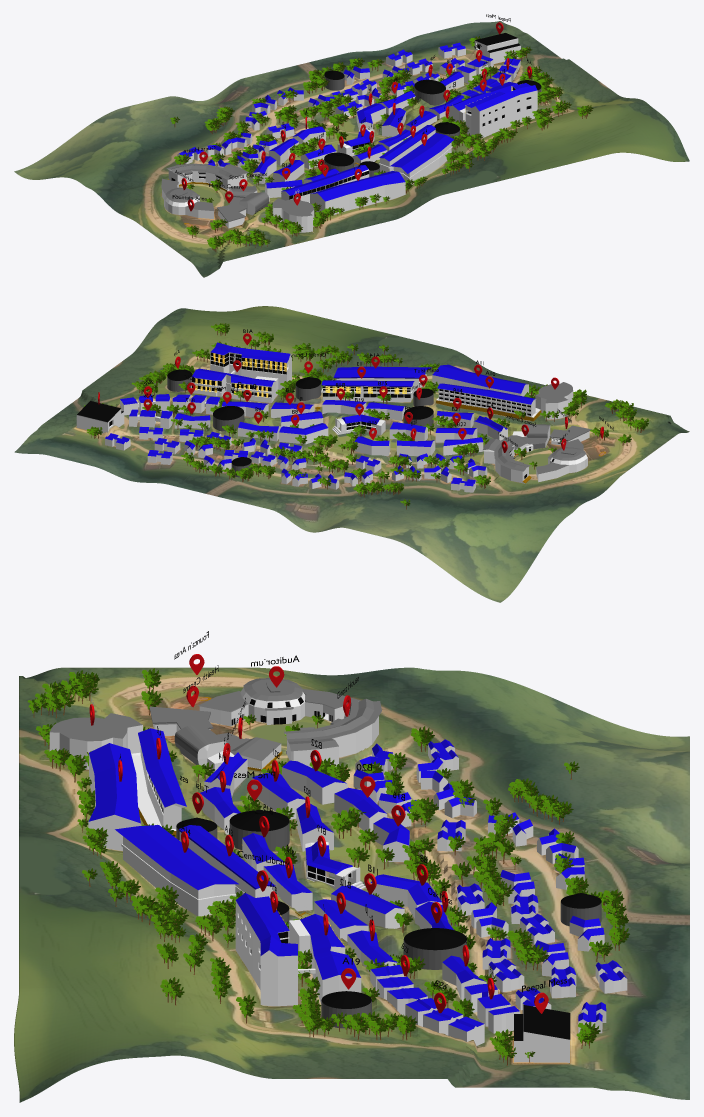
The picture shows the model from 3 angles, top to bottom: view 1: azimuth 30°, elevation 25°; view 2: azimuth 150°, elevation 25°; view 3: azimuth 270°, elevation 25°; orthographic projection. The views are drawn at different scales.
Parts seen in each view (by area): view 1: Dharti, A17+A18, A13 + A14, A11, Guest House, Auditorium, A10, A9, Peepal Mess, Plane, Oak Mess, Health Center (+8 smaller); view 2: Dharti, A17+A18, A13 + A14, A10, A11, Auditorium, Guest House, Peepal Mess, A9, Plane, B19, B8 (+18 smaller); view 3: Dharti, A17+A18, A13 + A14, Auditorium, A11, A10, Guest House, A9, Plane, Peepal Mess, Oak Mess, B26 (+25 smaller).
Part boxes in pixels (x1=…): Dharti: x1=14, y1=21, x2=689, y2=277; A17+A18: x1=449, y1=82, x2=537, y2=138; A13 + A14: x1=379, y1=125, x2=454, y2=184; A11: x1=310, y1=171, x2=405, y2=214; Guest House: x1=166, y1=163, x2=248, y2=191; Auditorium: x1=161, y1=178, x2=214, y2=218; A10: x1=281, y1=165, x2=369, y2=202; A9: x1=272, y1=198, x2=314, y2=232; Peepal Mess: x1=474, y1=33, x2=520, y2=63; Plane: x1=229, y1=186, x2=269, y2=215; Oak Mess: x1=414, y1=79, x2=445, y2=105; Health Center: x1=217, y1=202, x2=246, y2=228; Dharti: x1=14, y1=306, x2=689, y2=602; A17+A18: x1=191, y1=342, x2=291, y2=402; A13 + A14: x1=321, y1=366, x2=431, y2=402; A10: x1=436, y1=383, x2=541, y2=421; A11: x1=432, y1=364, x2=528, y2=396; Auditorium: x1=536, y1=439, x2=587, y2=482; Guest House: x1=482, y1=439, x2=531, y2=483; Peepal Mess: x1=76, y1=401, x2=124, y2=433; A9: x1=535, y1=382, x2=573, y2=419; Plane: x1=501, y1=424, x2=550, y2=455; B19: x1=332, y1=414, x2=385, y2=434; B8: x1=279, y1=423, x2=328, y2=444; Dharti: x1=14, y1=667, x2=689, y2=1102; A17+A18: x1=235, y1=893, x2=361, y2=1006; A13 + A14: x1=115, y1=825, x2=275, y2=916; Auditorium: x1=198, y1=678, x2=360, y2=726; A11: x1=88, y1=743, x2=140, y2=850; A10: x1=131, y1=728, x2=186, y2=837; Guest House: x1=284, y1=698, x2=381, y2=767; A9: x1=49, y1=713, x2=142, y2=769; Plane: x1=174, y1=725, x2=282, y2=771; Peepal Mess: x1=514, y1=1005, x2=570, y2=1062; Oak Mess: x1=403, y1=928, x2=466, y2=969; B26: x1=405, y1=998, x2=484, y2=1045.
Size of the model in its own units: 627 by 120 by 425.
Materials: 14 (1 with a texture image).
